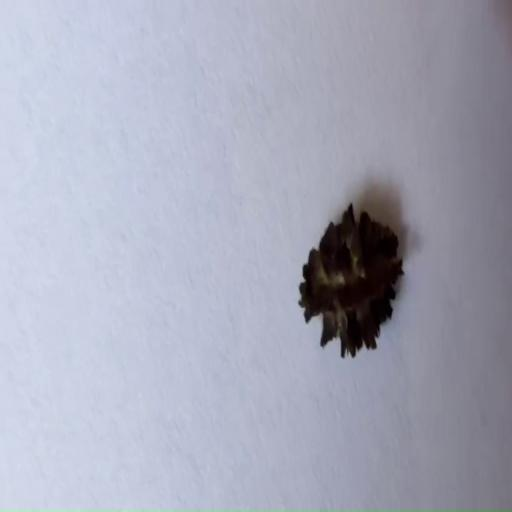papaya_seed: (293, 181, 408, 369)
